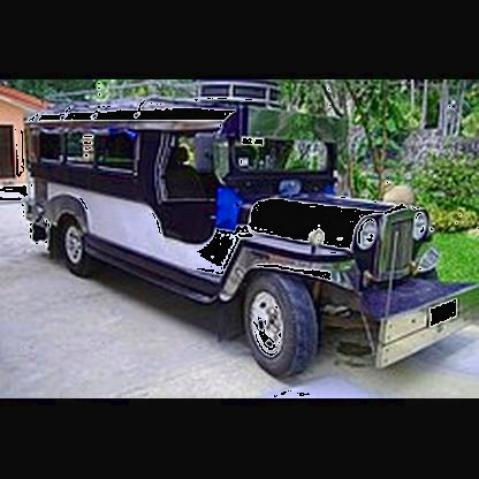jeepney: (15, 92, 477, 383)
